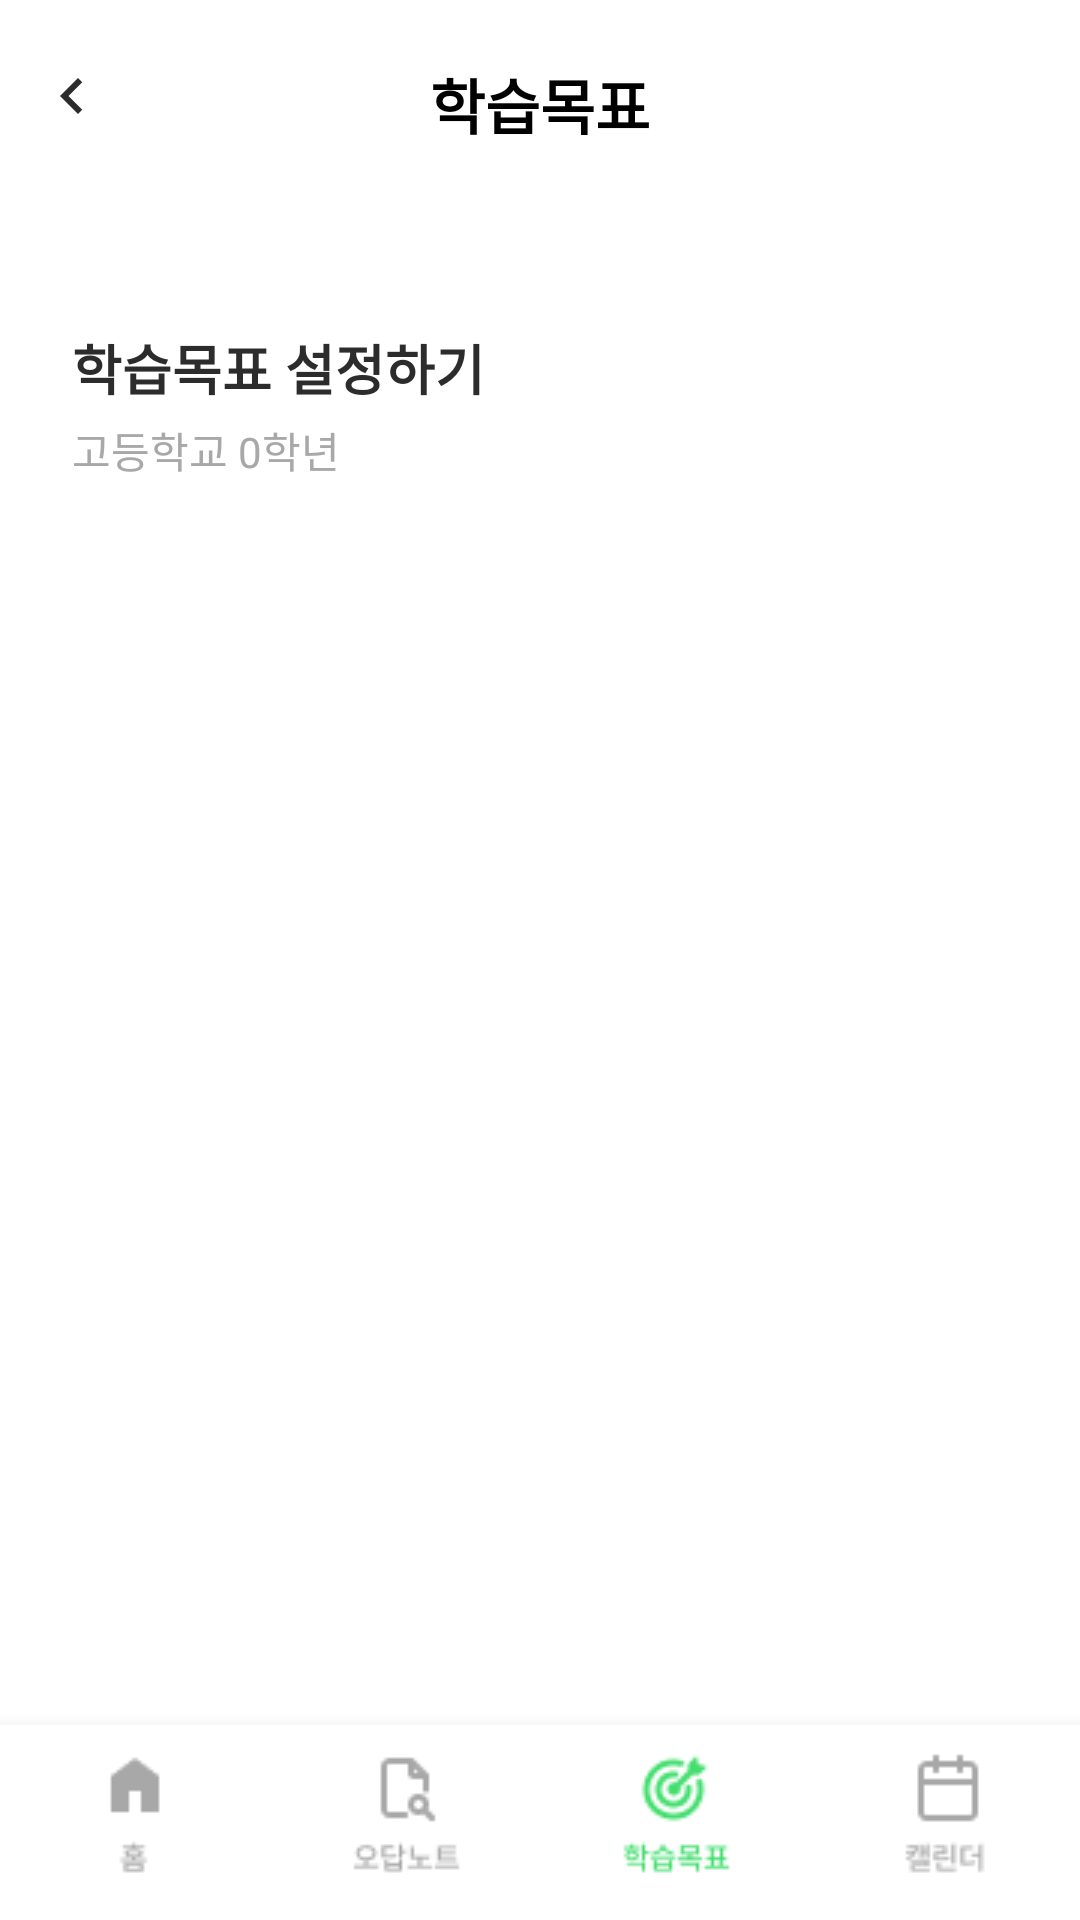

Named icons in this screenshot (1080*1920) and their bounding boxes, rect(x1, y1, x2, y2):
before: rect(60, 78, 82, 114)
